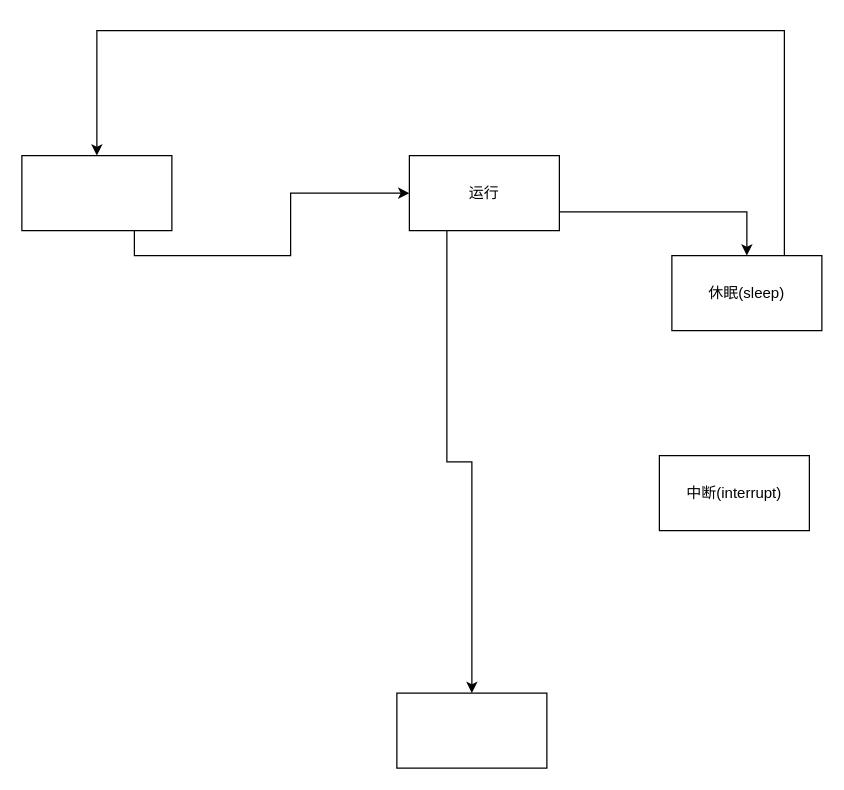
Some shapes in this 844 by 790 pixel diagram are drawn without their labels. Each missing label, with the box of its shape:
就绪: (21, 154, 172, 231)
终止: (396, 692, 547, 768)
